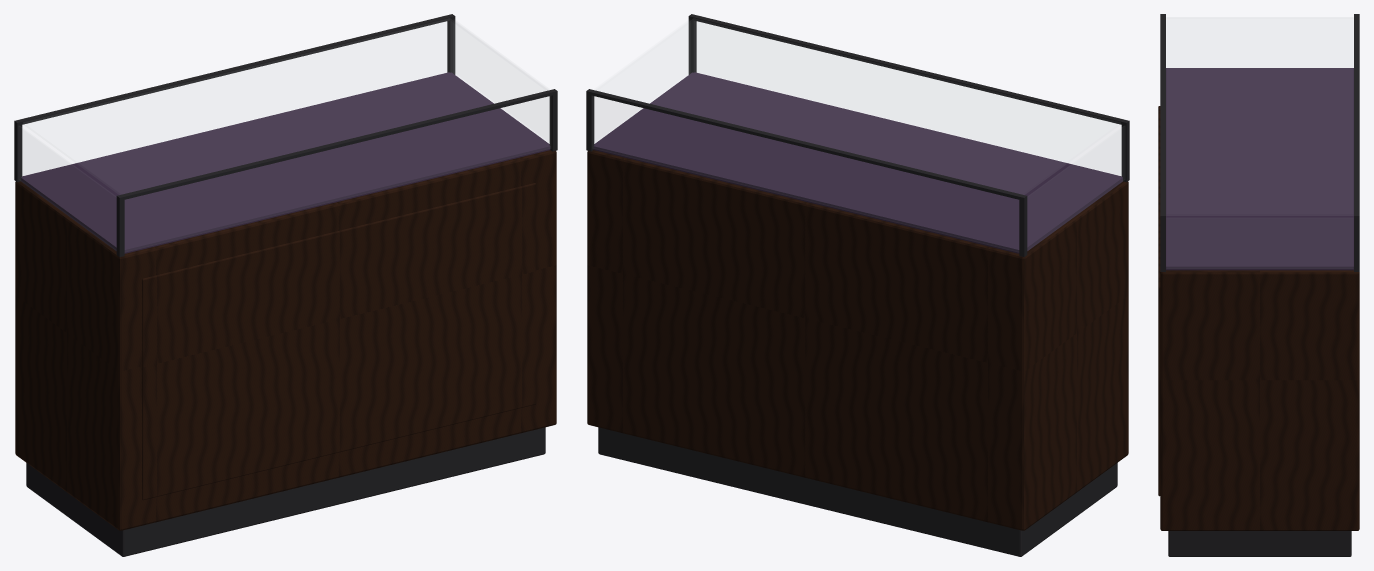
Rendered from shop_counter.glb.
3 renders of one model, left to right at view 1: azimuth 30°, elevation 25°; view 2: azimuth 150°, elevation 25°; view 3: azimuth 270°, elevation 25°, orthographic. The views are drawn at different scales.
Visible parts, largest first — view 1: front_panel, body, case_floor, plinth, rim_front, rim_back; view 2: body, case_floor, plinth, rim_back, rim_front; view 3: body, case_floor, plinth, rim_front, rim_back, front_panel, post_1_-1, post_1_1.
Part boxes in pixels (x1,y1,x2,y2): front_panel: (142,183,536,500); body: (15,150,556,530); case_floor: (21,72,550,253); plinth: (26,427,545,556); rim_front: (116,90,554,200); rim_back: (14,15,454,125); body: (587,150,1128,530); case_floor: (593,72,1122,253); plinth: (598,427,1117,556); rim_back: (586,90,1027,200); rim_front: (688,15,1129,125); body: (1160,270,1359,530); case_floor: (1166,68,1353,270); plinth: (1168,531,1351,556); rim_front: (1160,16,1165,218); rim_back: (1354,16,1359,218); front_panel: (1158,106,1160,496); post_1_-1: (1354,213,1359,271); post_1_1: (1160,213,1165,271).
Size of the model in its own units: 1.2 by 0.955 by 0.505.
Materials: 5 (1 with a texture image).
